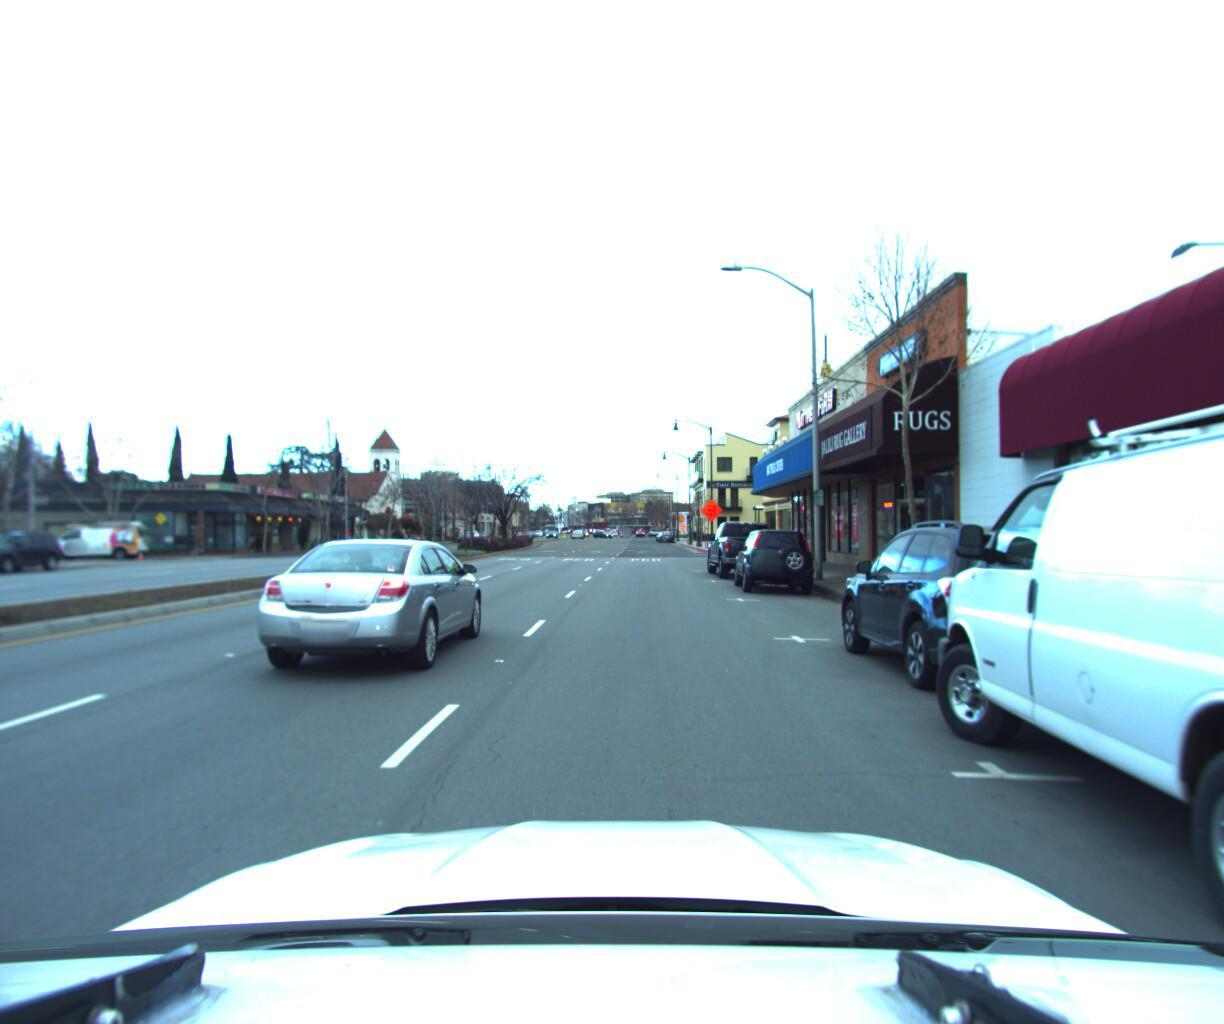car: (904, 253, 1224, 1024), (818, 509, 1144, 709), (241, 538, 489, 682), (729, 522, 817, 591), (34, 520, 156, 564), (0, 530, 71, 578)
truck: (700, 514, 789, 579)
